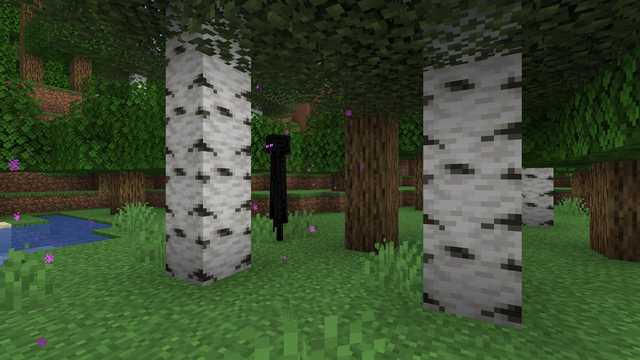endermens: (262, 130, 293, 242)
